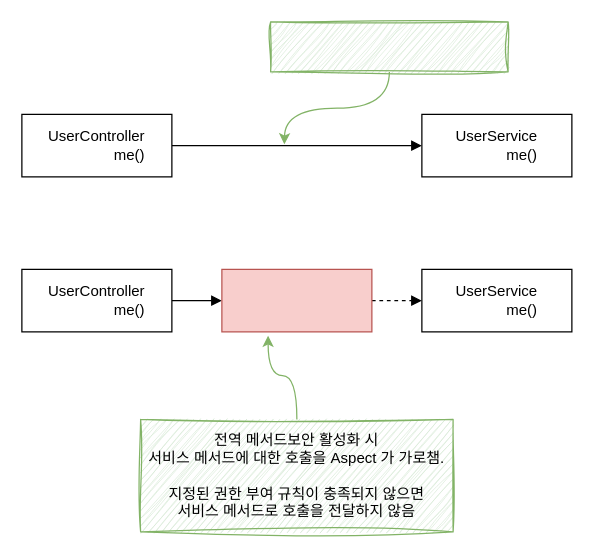
Some shapes in this 594 by 554 pixel diagram are drawn without their labels. Each missing label, with the centre of its shape:
보안 Aspect aspectLogic(): [296,300]
전역 메서드 보안이 없으면 호출이 컨트롤러에서 서비스로 감: [388,46]
